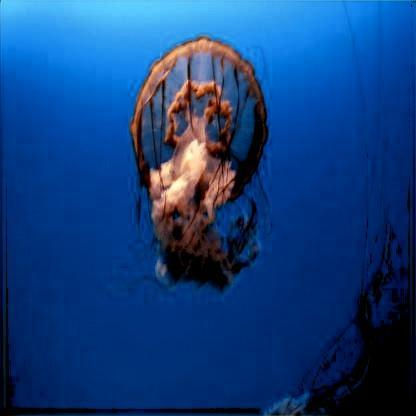Dressed: (134, 38, 274, 292)
